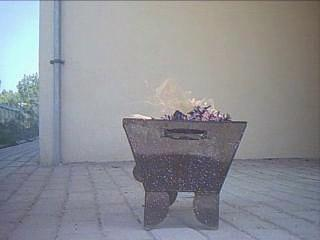fire: (137, 73, 225, 119)
